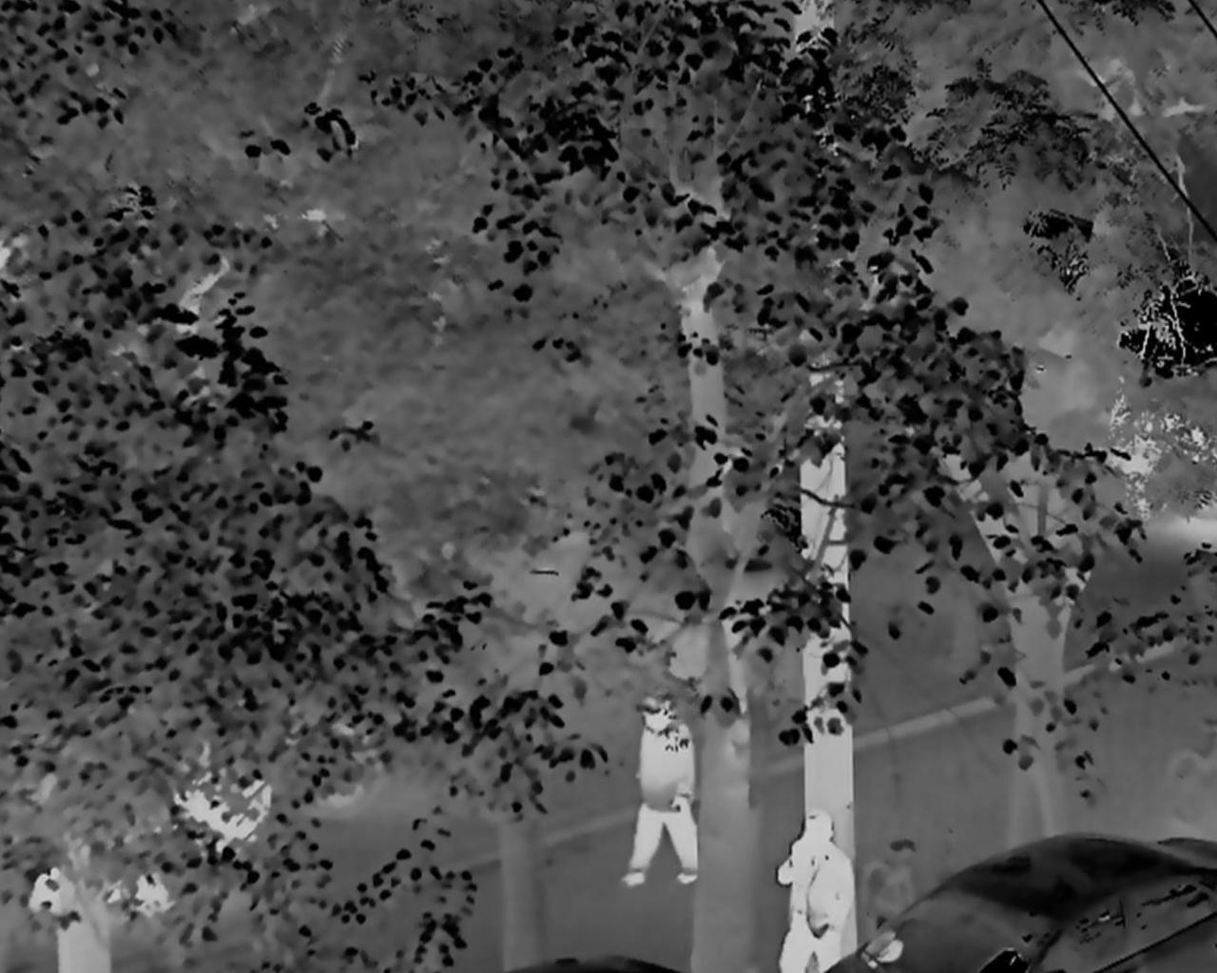person: (627, 688, 700, 895), (776, 811, 857, 973)
